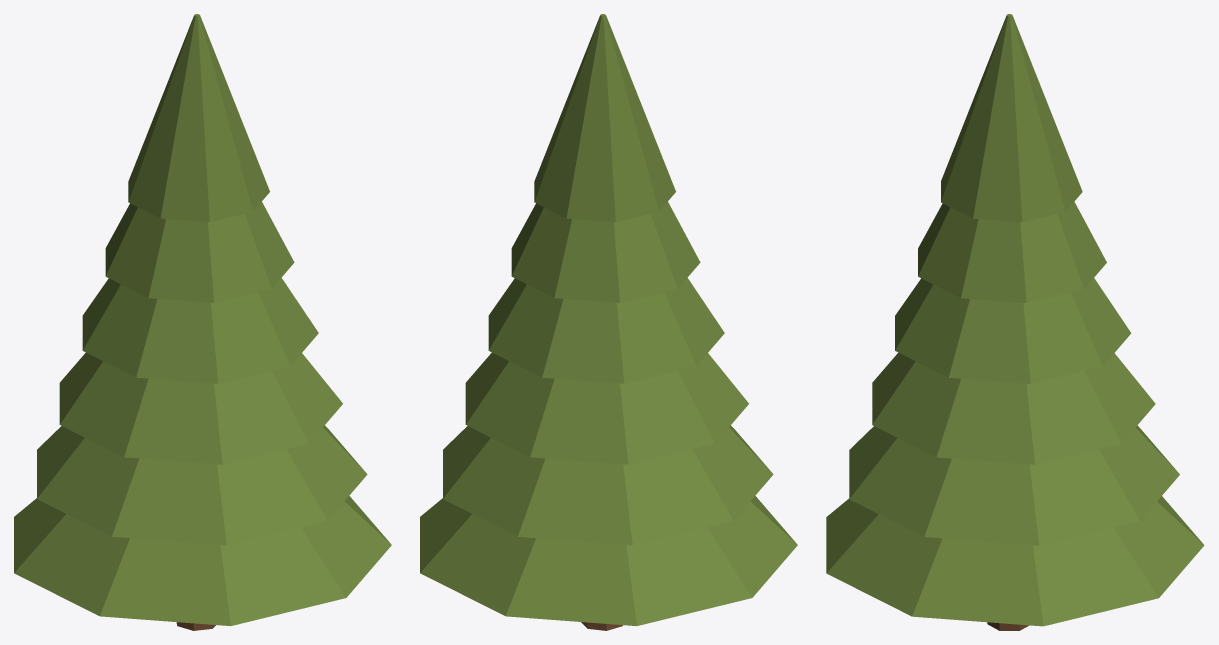
Rendered from tree_05.glb.
3 views of the same model, side by side, from view 1: azimuth 30°, elevation 25°; view 2: azimuth 150°, elevation 25°; view 3: azimuth 270°, elevation 25° (orthographic).
Visible parts, largest first — view 1: tree_05; view 2: tree_05; view 3: tree_05.
Part boxes in pixels (left/top/right/bottom): tree_05: left=14, top=14, right=391, bottom=630; tree_05: left=420, top=14, right=797, bottom=630; tree_05: left=826, top=14, right=1204, bottom=630.
Bounding box in the file's own units: 3.84 × 6.7 × 3.78.
